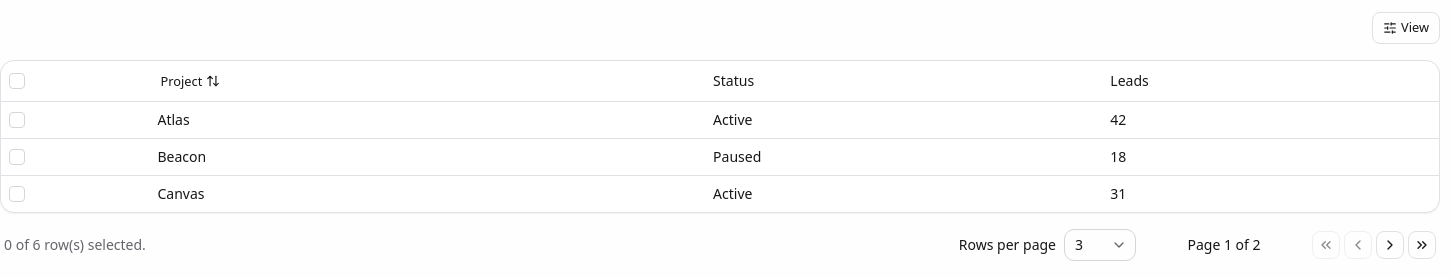
Test: DataTable › preserves stable selection and global counts across server pages
Click the checkbox named "Select Atlas".
click(17, 120)  # box [9,112,25,128]
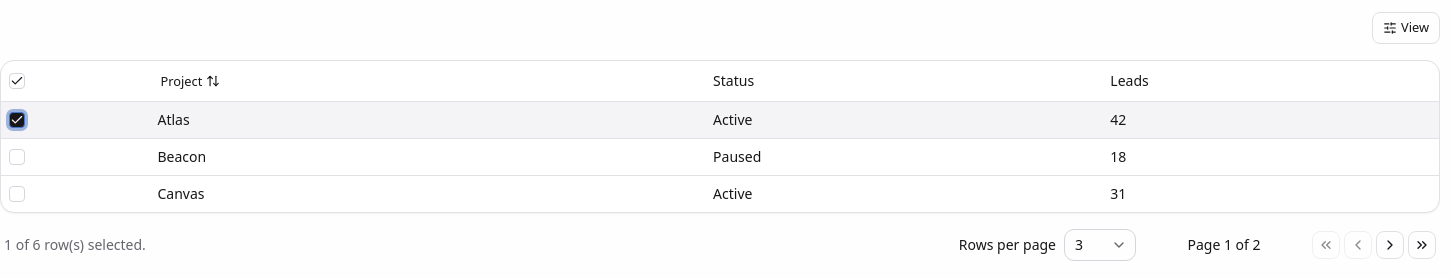
Expected: the text "1 of 6 row(s) selected." is shown, [4,234,146,254]
Click the button named "Go to next page".
click(1390, 244)  # box [1376,230,1404,258]
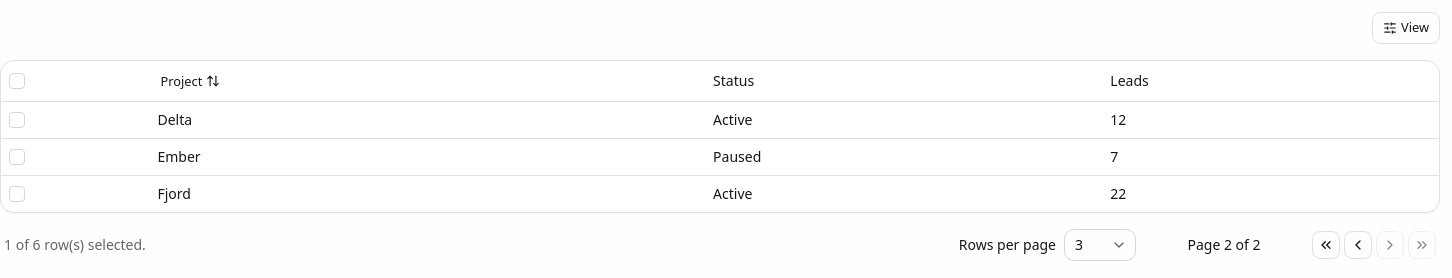
Expected: the text "1 of 6 row(s) selected." is shown, [4,234,146,254]
Expected: the text "Delta" is shown, [150,101,705,138]
Expected: the checkbox named "Select Delta" is not checked, [9,112,25,128]
Click the button named "Go to first page".
click(1326, 244)  # box [1312,230,1340,258]
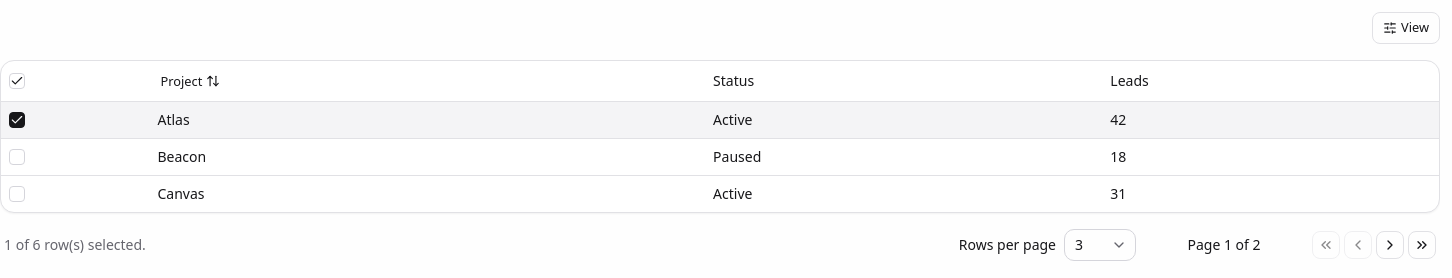
Expected: the checkbox named "Select Atlas" is checked, [9,112,25,128]
